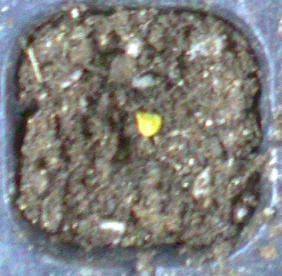pepper seed: (53, 41, 217, 180)
